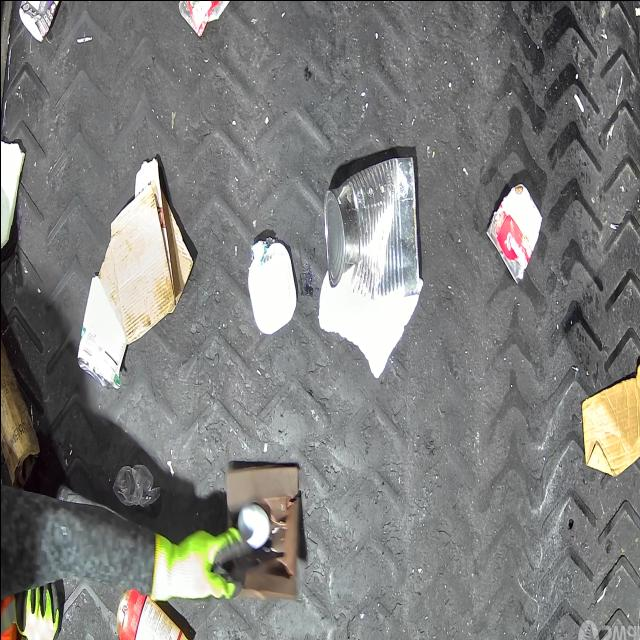can: (322, 155, 418, 298), (76, 274, 127, 392), (486, 182, 542, 284)
